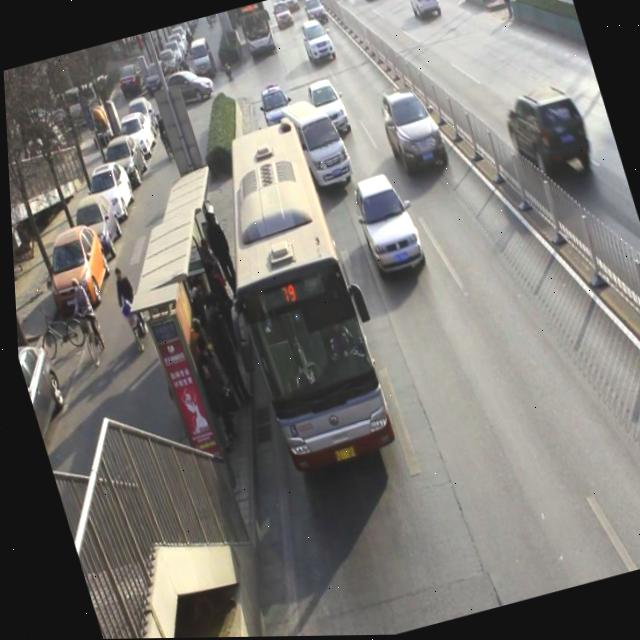car: (502, 84, 601, 195), (349, 175, 426, 284), (375, 83, 451, 182), (304, 76, 352, 143), (255, 82, 297, 138), (298, 20, 337, 70), (407, 0, 445, 24), (301, 0, 330, 29), (271, 1, 293, 32), (358, 0, 385, 5), (327, 0, 349, 3)
truck: (278, 95, 356, 195)
van: (189, 119, 396, 480), (235, 2, 276, 56)
